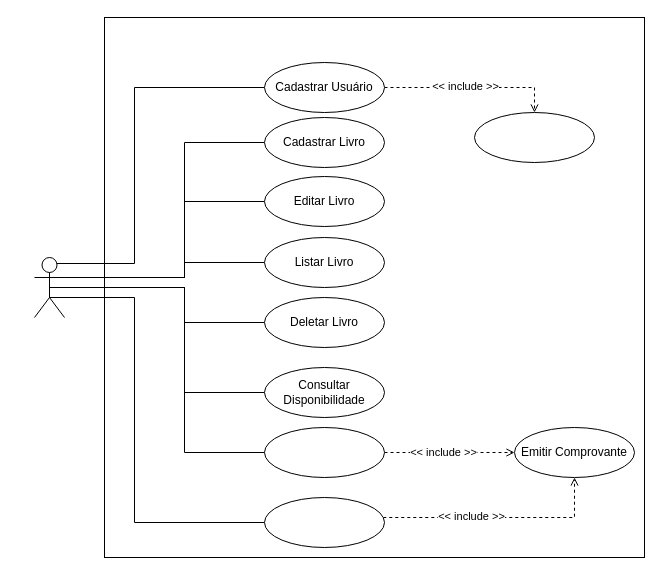
The diagram is 662 pixels wide and 575 high, and some of its shapes have lost their labels. Here are the shapes that lost their labels. From the top down, the centre of each, then its label:
At point (534, 137): "Enviar e-mail de confirmação".
At point (49, 287): "Bibliotecario".
At point (324, 452): "Realizar Empréstimo".
At point (324, 522): "Realizar Devolução".
